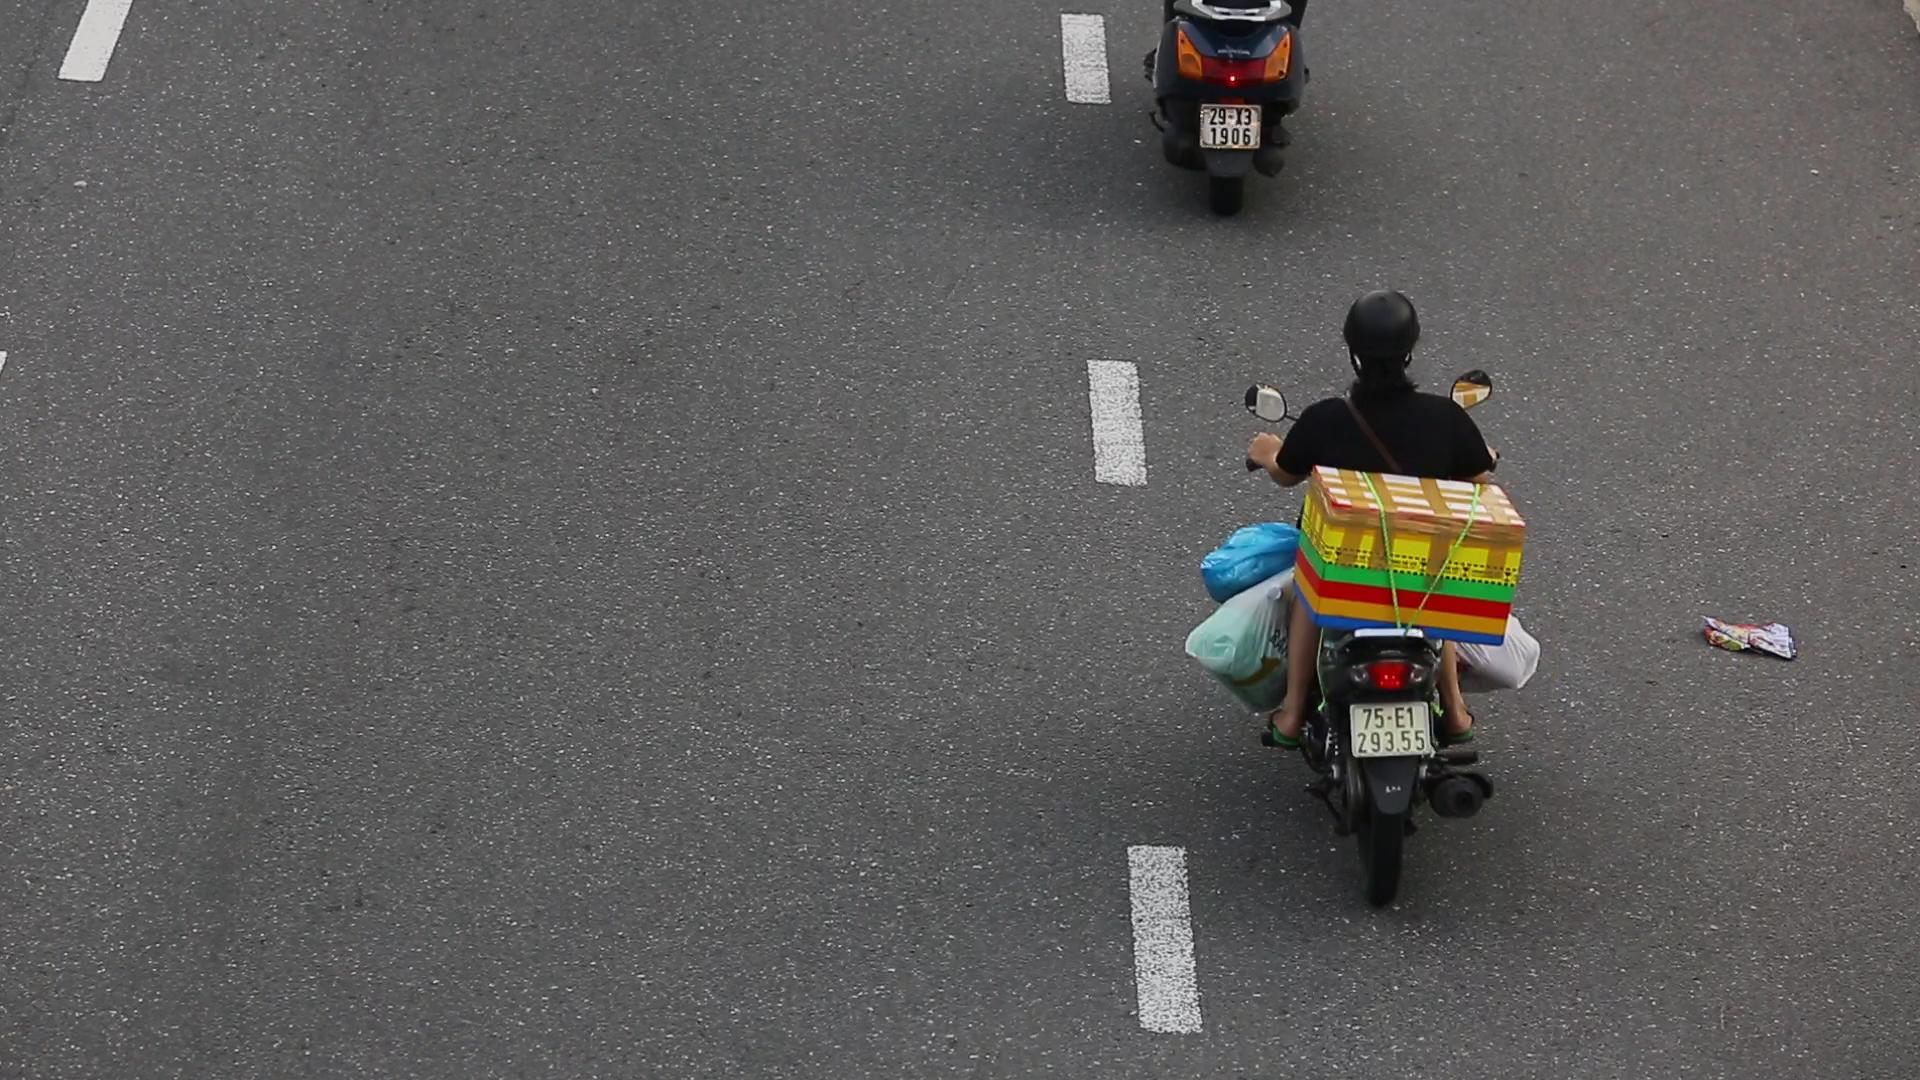motobike: (1197, 258, 1555, 924)
